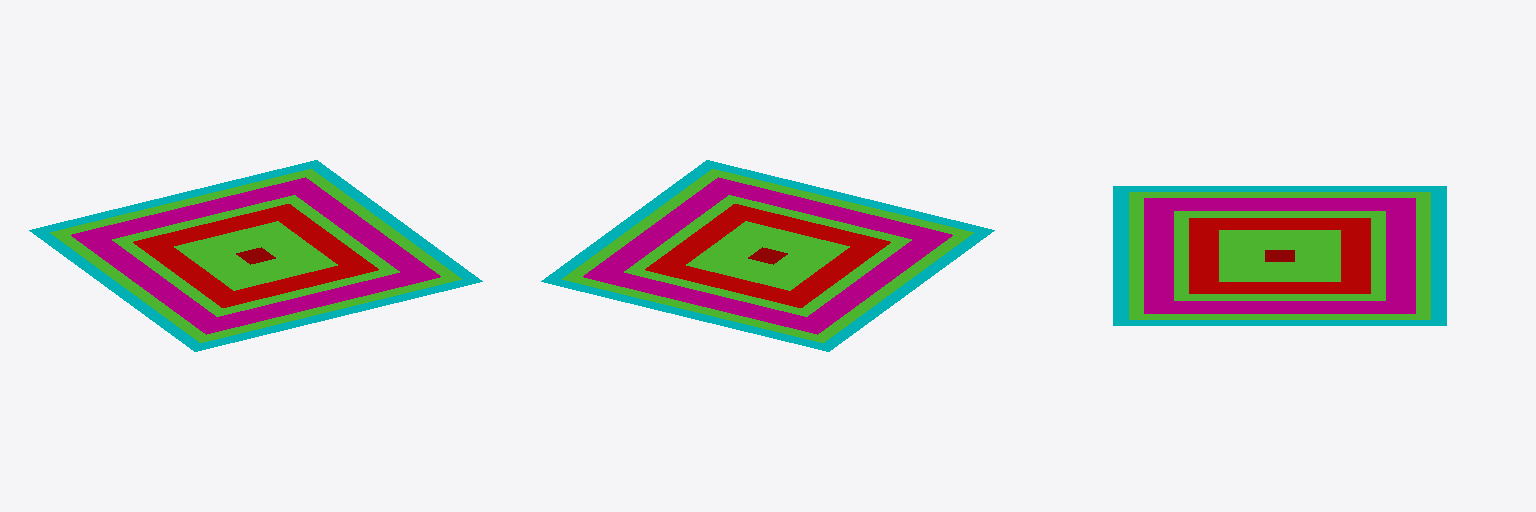
The model's file is spheres.obj.
3 renders of one model, left to right at view 1: azimuth 30°, elevation 25°; view 2: azimuth 150°, elevation 25°; view 3: azimuth 270°, elevation 25°, orthographic.
Parts seen in each view (by area): view 1: Grid; view 2: Grid; view 3: Grid.
Part boxes in pixels (x1,y1,x2,y2): Grid: (29, 160, 482, 351); Grid: (541, 160, 994, 351); Grid: (1113, 186, 1446, 325).
Bounding box in the file's own units: 3.46 × 0 × 3.46.